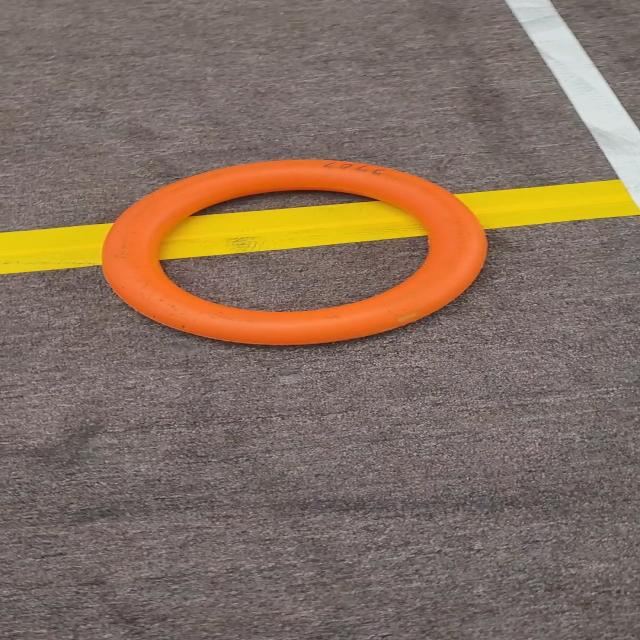note: (93, 151, 525, 358)
